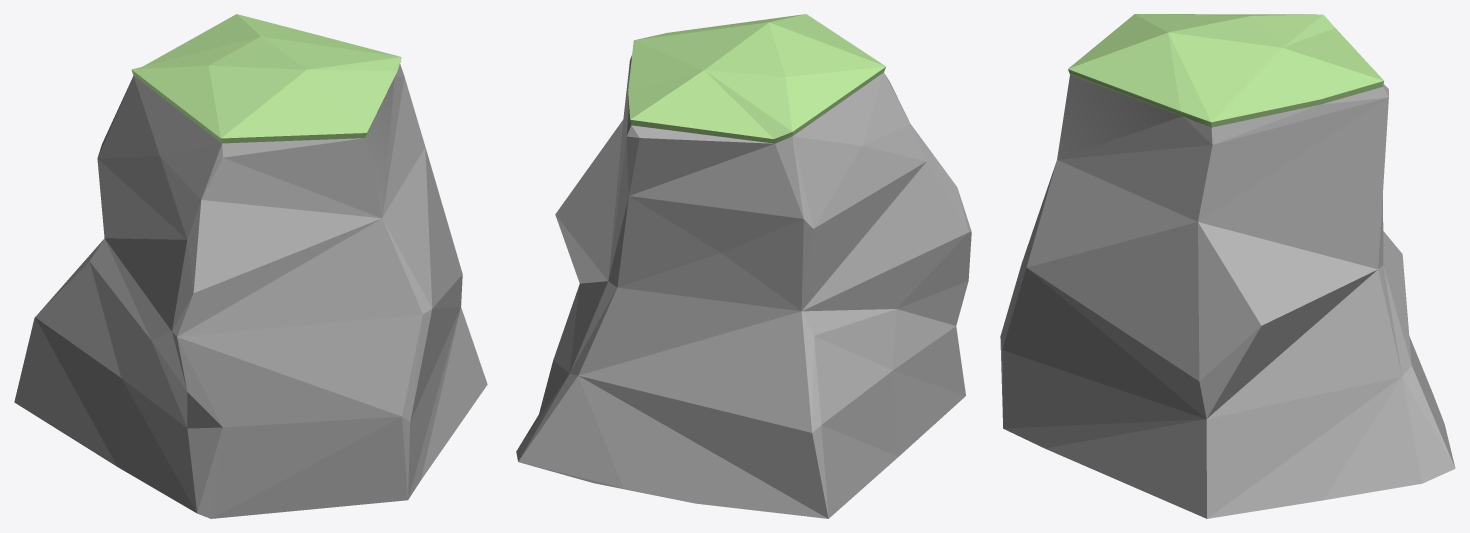
Rendered from PEDRAGRANDE2.fbx.
The picture shows the model from 3 angles, left to right: view 1: azimuth 30°, elevation 25°; view 2: azimuth 150°, elevation 25°; view 3: azimuth 270°, elevation 25°; orthographic projection. The views are drawn at different scales.
Visible parts, largest first — view 1: pCylinder9; view 2: pCylinder9; view 3: pCylinder9.
Boxes of the visible parts, x1,y1,x2,y2 form: pCylinder9: [14, 14, 487, 518]; pCylinder9: [516, 14, 971, 518]; pCylinder9: [1000, 14, 1455, 518].
Bounding box in the file's own units: 2.3 × 2.22 × 2.35.
1 material, 1 textured.
